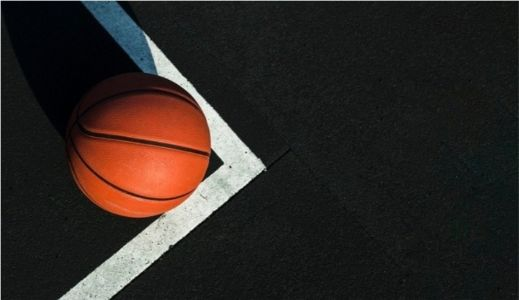baloncesto: (65, 72, 211, 219)
